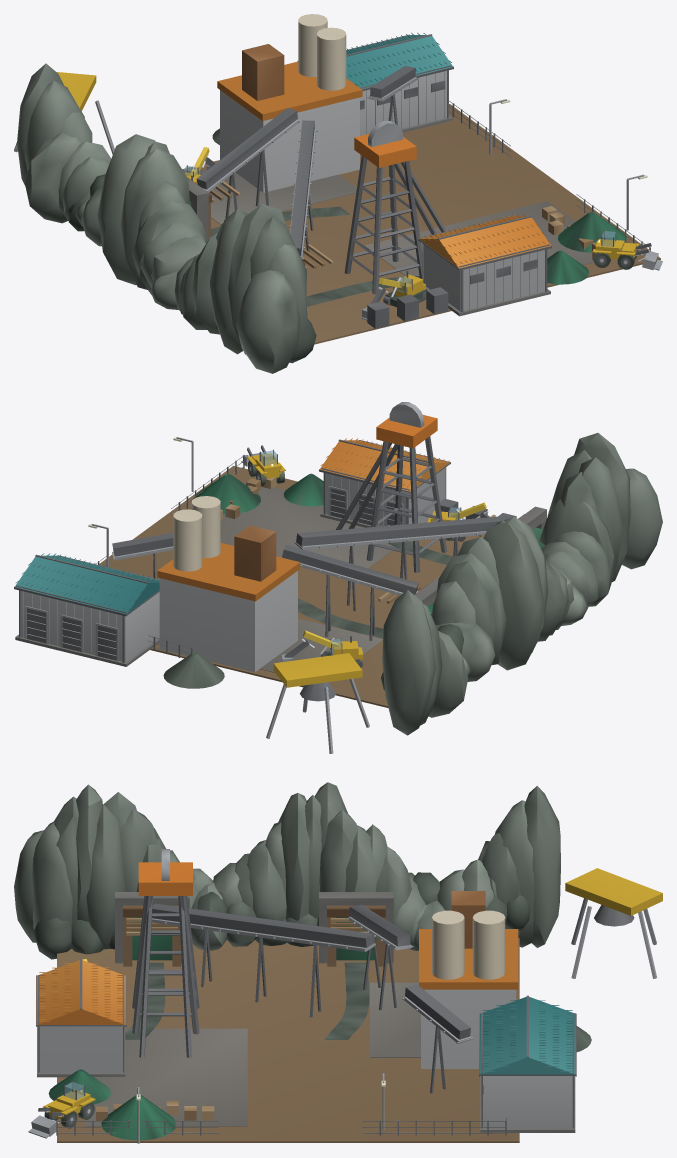
File: Mine_P2.fbx
3 views of the same model, one above another, from view 1: azimuth 30°, elevation 25°; view 2: azimuth 150°, elevation 25°; view 3: azimuth 270°, elevation 25° (orthographic). The views are drawn at different scales.
Parts seen in each view (by area): view 1: Mine.Cliff, Mine.Apron, Mine.Plant, Mine.Winder, Mine.Crusher, Mine.Headframe, Mine.Conv1, Mine.Conv0, Mine.Clutter, Mine.Loader, Mine.Spoil0, Mine.Excav (+6 smaller); view 2: Mine.Cliff, Mine.Plant, Mine.Apron, Mine.Crusher, Mine.Headframe, Mine.Winder, Mine.Conv0, Mine.LoadGantry, Mine.Conv1, Mine.Spoil2, Mine.Spoil0, Mine.ConvOut (+9 smaller); view 3: Mine.Apron, Mine.Cliff, Mine.Crusher, Mine.Plant, Mine.Winder, Mine.Headframe, Mine.Conv0, Mine.LoadGantry, Mine.Adit1, Mine.Adit0, Mine.Spoil0, Mine.Conv1 (+7 smaller).
Part boxes in pixels (x1,y1,x2,y2): Mine.Cliff: (17,63,316,373); Mine.Apron: (182,104,660,344); Mine.Plant: (217,14,362,192); Mine.Winder: (418,214,551,316); Mine.Crusher: (297,32,453,135); Mine.Headframe: (344,121,446,294); Mine.Conv1: (196,108,300,218); Mine.Conv0: (289,120,317,262); Mine.Clutter: (367,206,596,328); Mine.Loader: (592,230,662,270); Mine.Spoil0: (558,212,626,252); Mine.Excav: (362,270,426,320); Mine.Cliff: (381,433,662,735); Mine.Plant: (157,496,300,672); Mine.Apron: (99,466,484,707); Mine.Crusher: (14,553,159,666); Mine.Headframe: (336,402,447,572); Mine.Winder: (319,438,450,527); Mine.Conv0: (294,516,508,611); Mine.LoadGantry: (266,653,369,753); Mine.Conv1: (282,544,418,640); Mine.Spoil2: (163,652,224,688); Mine.Spoil0: (193,474,260,513); Mine.ConvOut: (112,532,173,578); Mine.Apron: (57,938,519,1142); Mine.Cliff: (14,782,560,959); Mine.Crusher: (479,995,576,1132); Mine.Plant: (419,891,518,1068); Mine.Winder: (36,958,126,1077); Mine.Headframe: (132,849,199,1058); Mine.Conv0: (151,903,375,1017); Mine.LoadGantry: (565,868,662,978); Mine.Adit1: (319,892,393,966); Mine.Adit0: (115,892,189,966); Mine.Spoil0: (101,1095,175,1140); Mine.Conv1: (346,905,413,1010).
Bounding box in the file's own units: 8533 × 3128 × 9542.
